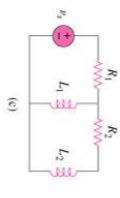inductor: (42, 90, 76, 115)
